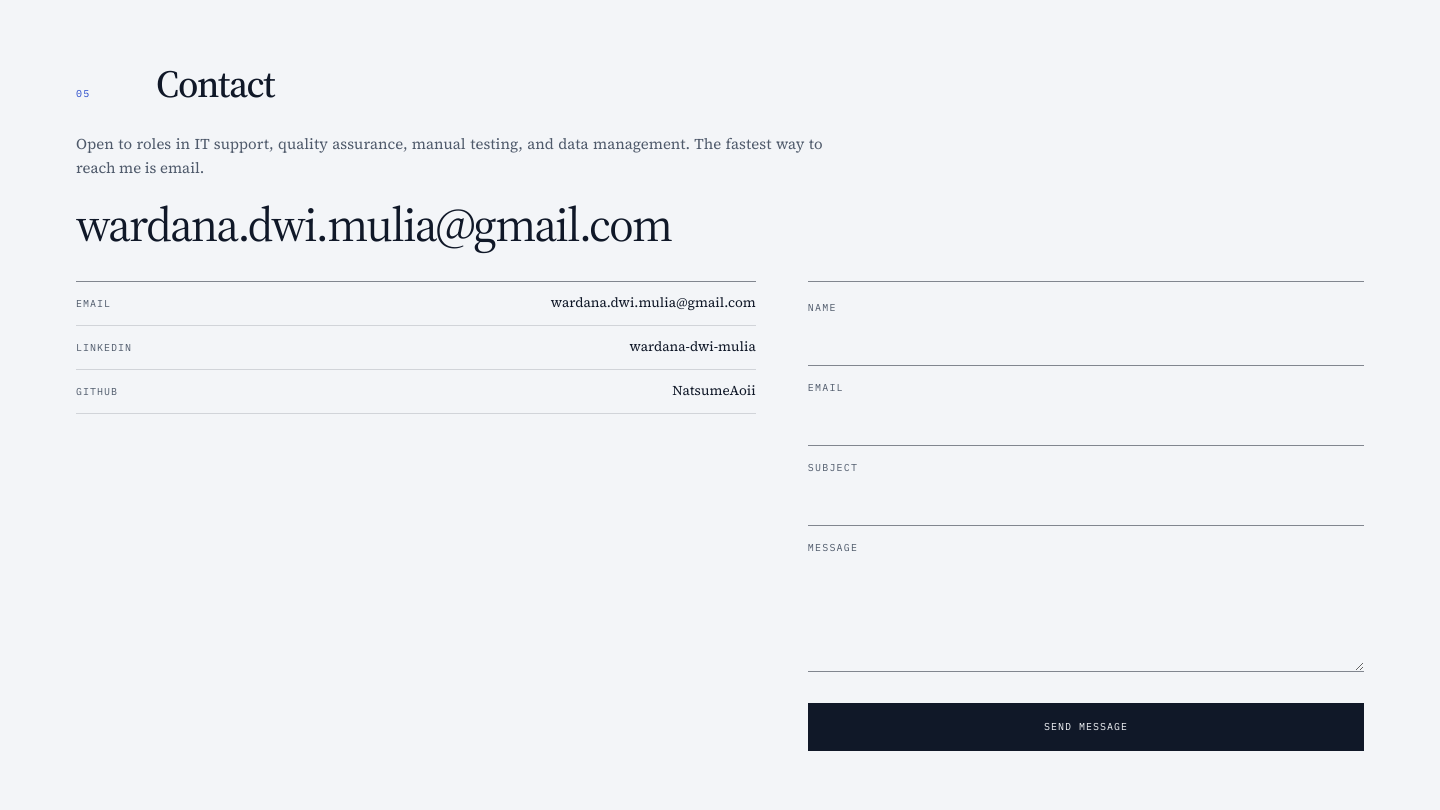
contact form › shows email format error for invalid email
Type "not-an-email" into the field labelled "Email". click: coordinates (1086, 424)
box: [808,402,1364,446]
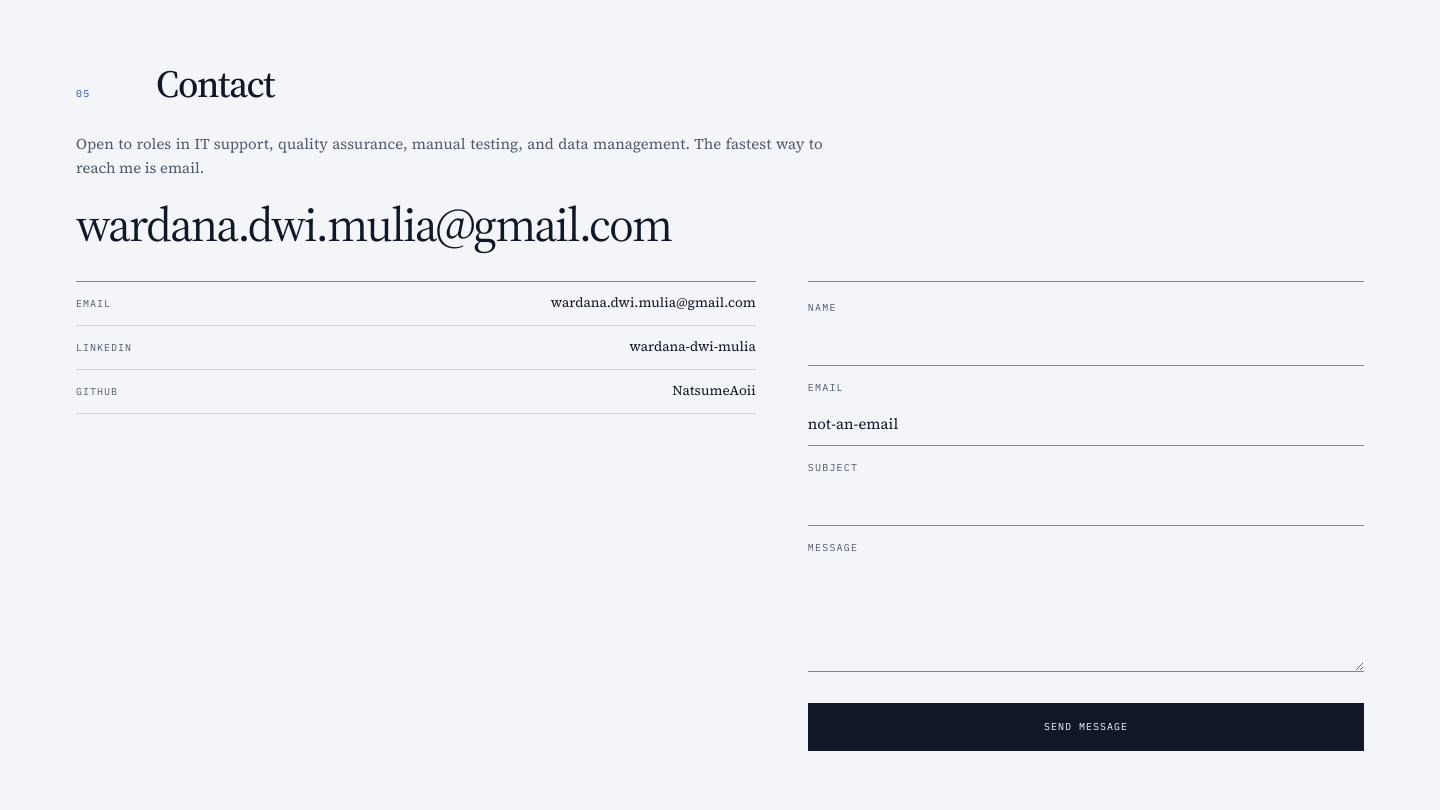
Leave the field labelled "Email", box [808,402,1364,446]
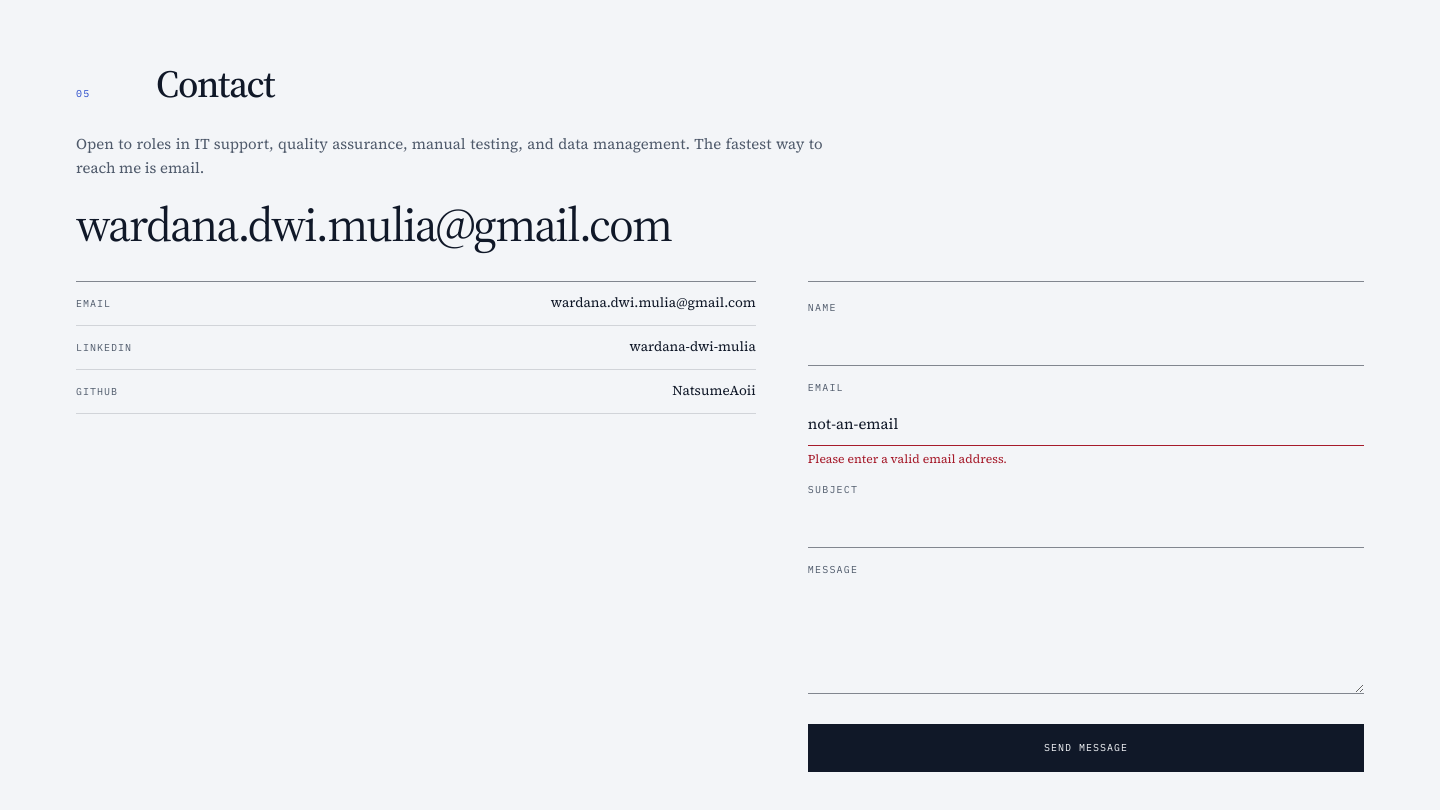
Now the message "Please enter a valid email address." is shown, box [808,451,1007,467]
